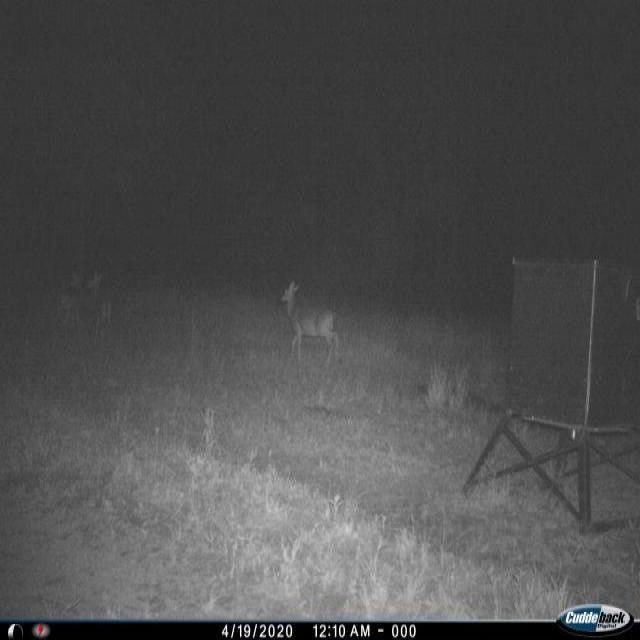deer: (276, 278, 350, 367), (86, 270, 120, 349), (56, 269, 88, 343)
